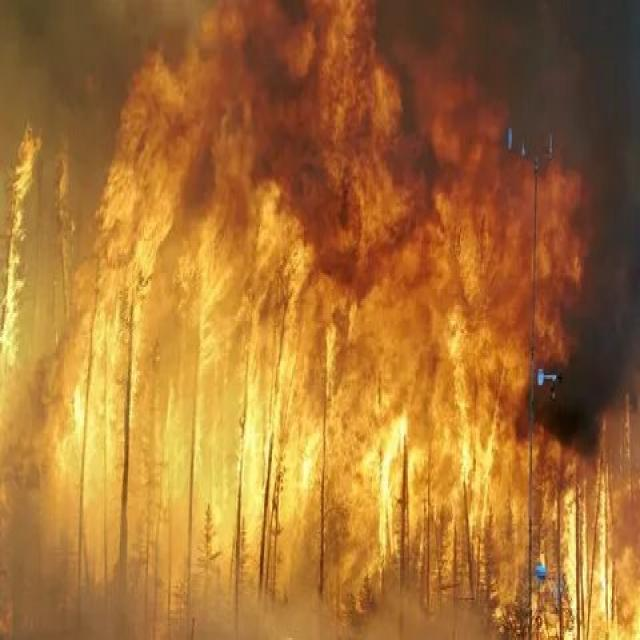Fire: (0, 1, 542, 623)
